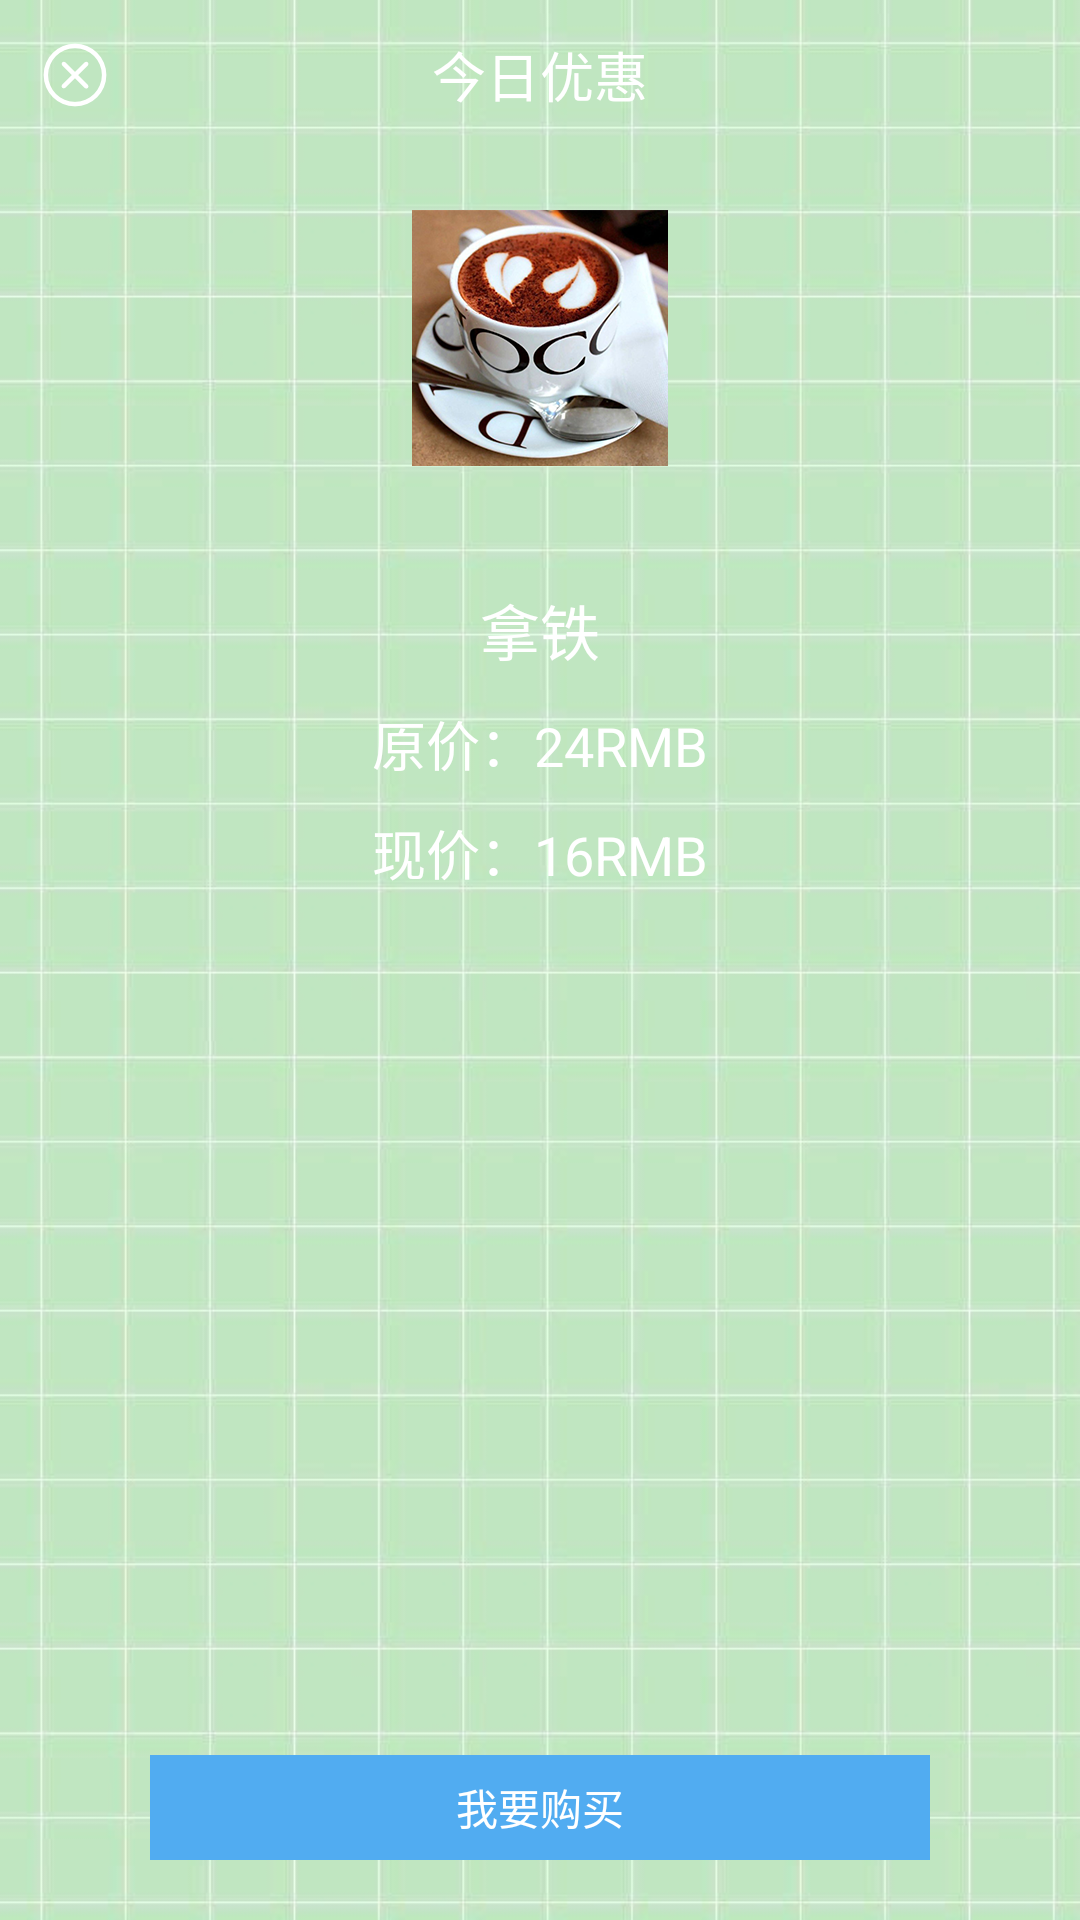

Icon click points for this 1080*1920 phone screenshot, format [x,y]:
coffee demo: [540,338]
